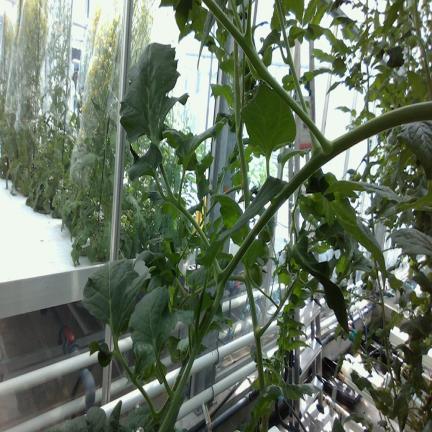6kp_petiole: (250, 306, 278, 363), (226, 164, 250, 204), (370, 292, 385, 317), (236, 117, 244, 150)
MainStem: (216, 101, 432, 287), (244, 270, 265, 392), (234, 64, 250, 209), (377, 278, 387, 331)
tomato: (249, 263, 263, 286), (259, 229, 271, 242), (262, 243, 269, 264)
